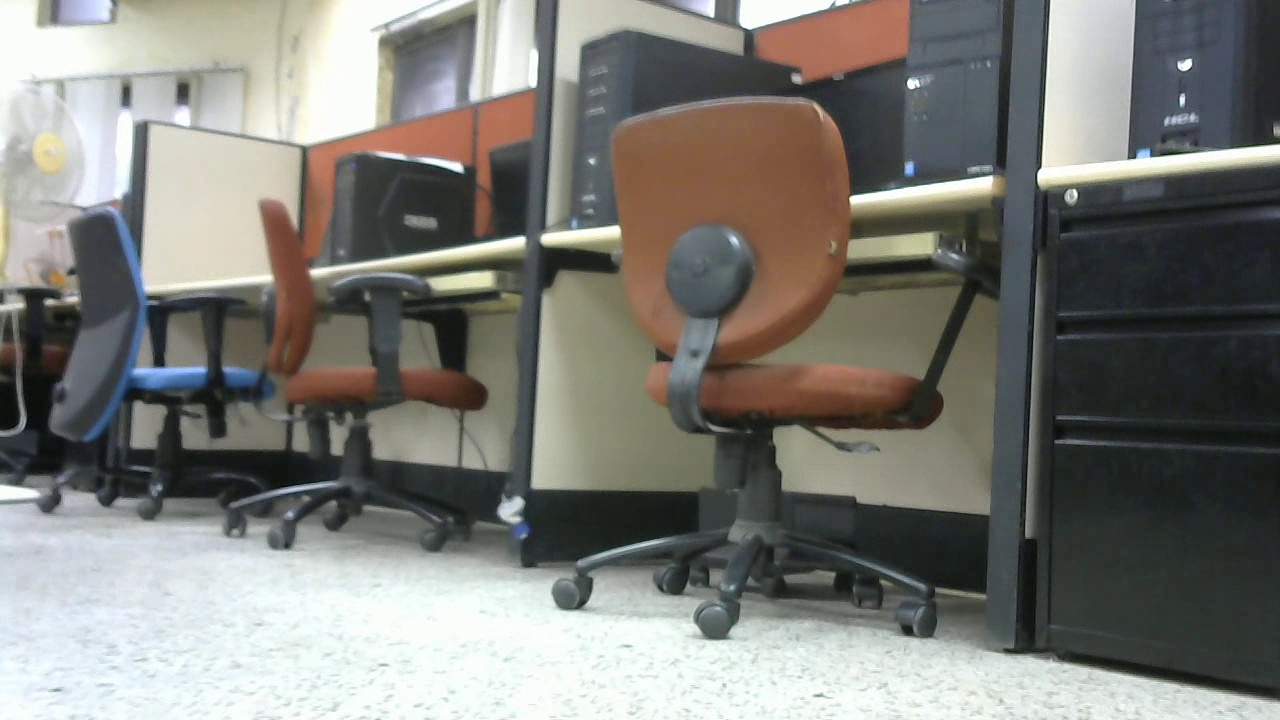chair: (549, 93, 1002, 640), (226, 195, 481, 544), (36, 190, 272, 519)
